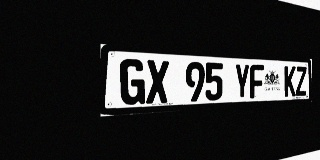5: (205, 62, 223, 101)
9: (186, 61, 205, 102)
F: (250, 64, 264, 98)
G: (120, 58, 145, 105)
K: (284, 66, 296, 97)
X: (146, 60, 169, 104)
Y: (234, 64, 249, 99)
Z: (296, 66, 306, 96)
